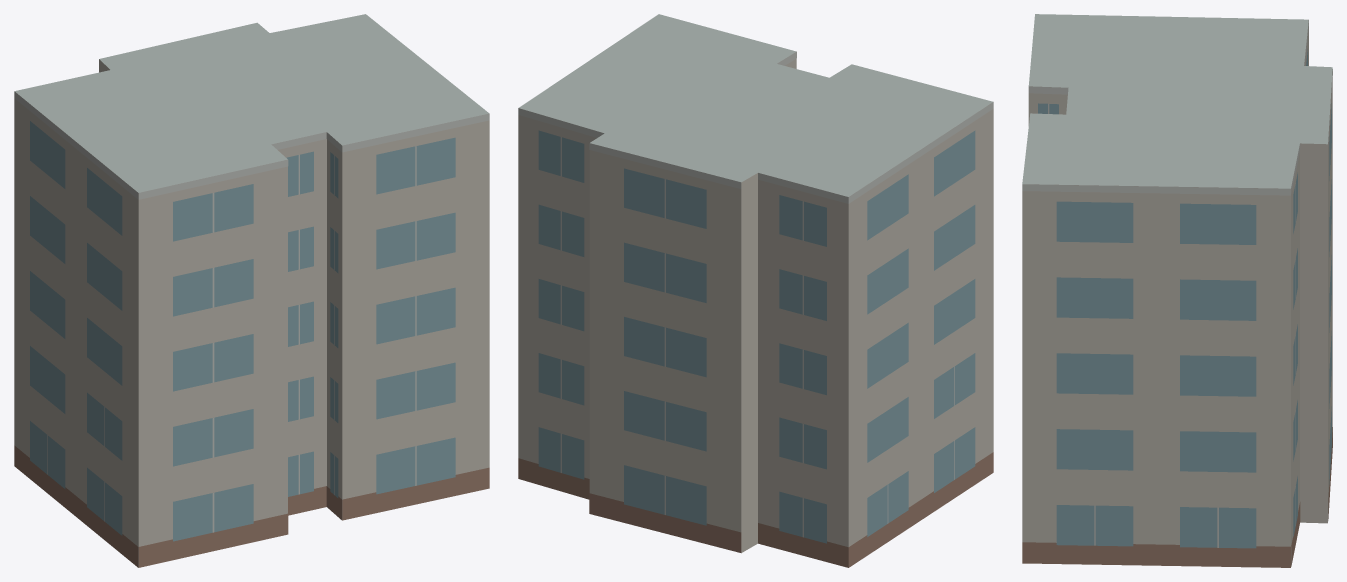
File: survey-upis-32881997.glb
3 renders of one model, left to right at view 1: azimuth 30°, elevation 25°; view 2: azimuth 150°, elevation 25°; view 3: azimuth 270°, elevation 25°, orthographic. The views are drawn at different scales.
Visible parts, largest first — view 1: survey-upis-32881997.tmp; view 2: survey-upis-32881997.tmp; view 3: survey-upis-32881997.tmp.
Boxes of the visible parts, left/top/right/bottom form: survey-upis-32881997.tmp: left=14, top=14, right=489, bottom=567; survey-upis-32881997.tmp: left=518, top=14, right=993, bottom=567; survey-upis-32881997.tmp: left=1022, top=14, right=1332, bottom=567.
Bounding box in the file's own units: 13.05 × 13.2 × 9.81.
